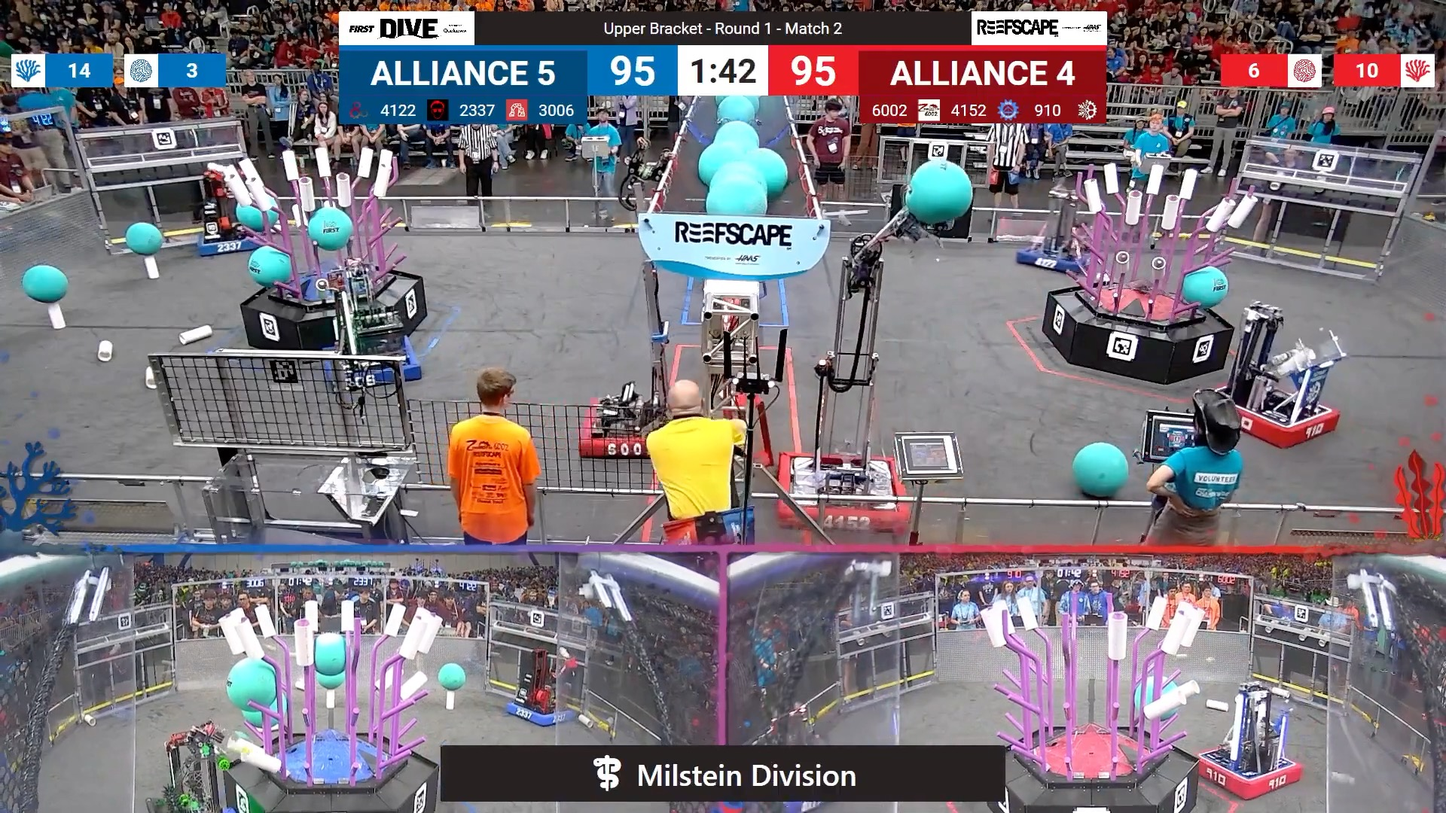bumpers: (773, 453, 912, 537), (1197, 385, 1348, 452), (1188, 748, 1308, 799), (316, 339, 426, 389), (570, 405, 661, 461), (186, 223, 270, 260), (1011, 244, 1103, 276), (499, 697, 581, 732)
